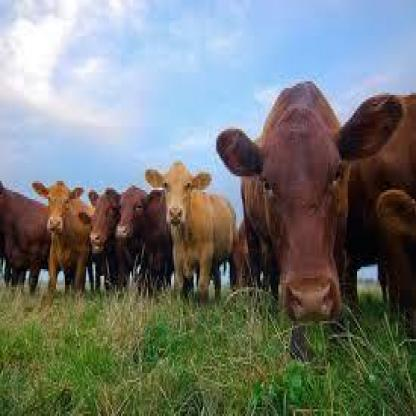cow: (216, 83, 404, 331), (144, 160, 237, 300), (30, 178, 103, 298), (105, 187, 166, 295), (0, 182, 54, 293), (88, 186, 121, 298)
